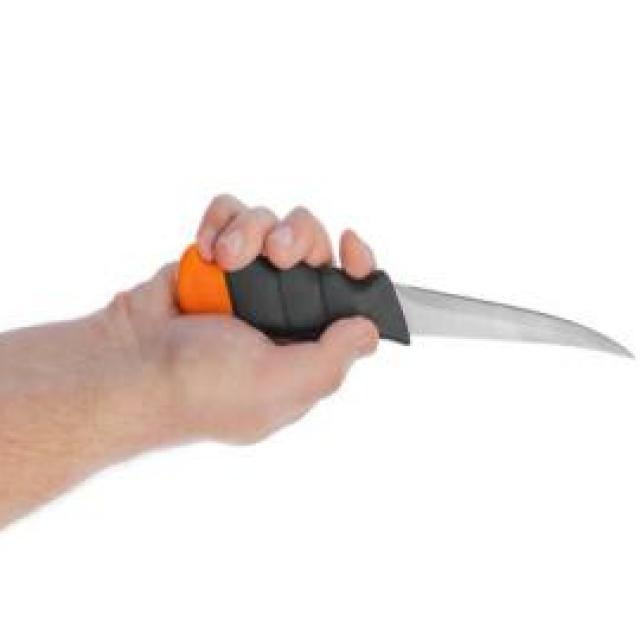knife: (174, 237, 635, 365)
